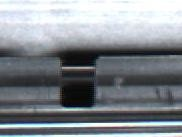oneu: (48, 53, 106, 113)
